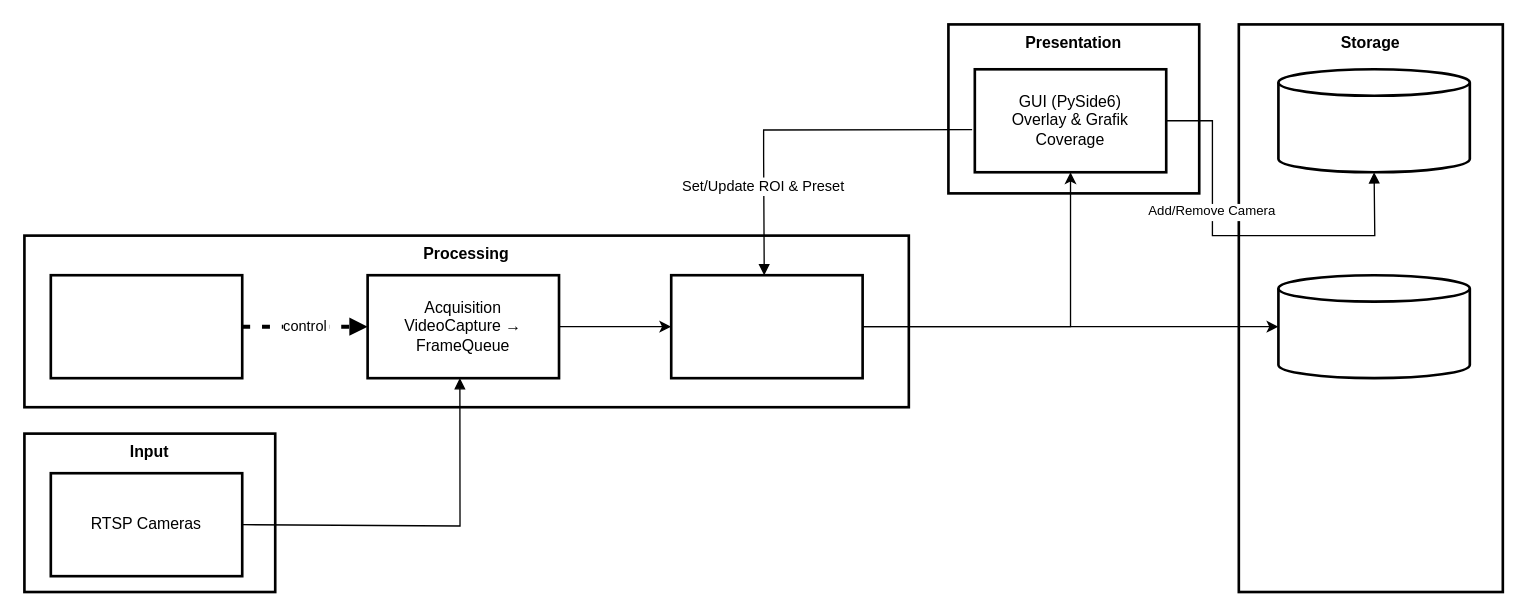
This 1526x615 diagram has some shape labels left out. Here are the shapes that lost their labels. From the top down, the centre of each, then its label:
At point (1373, 120): "SQLite Config DB Camera URL • ROI • Preset".
At point (146, 326): "Connectivity Monitor Status & Reconnect".
At point (766, 326): "Detection Pipeline MOG2 • Morphology • Contour • ROI • Coverage%".
At point (1373, 326): "CSV Logs".
